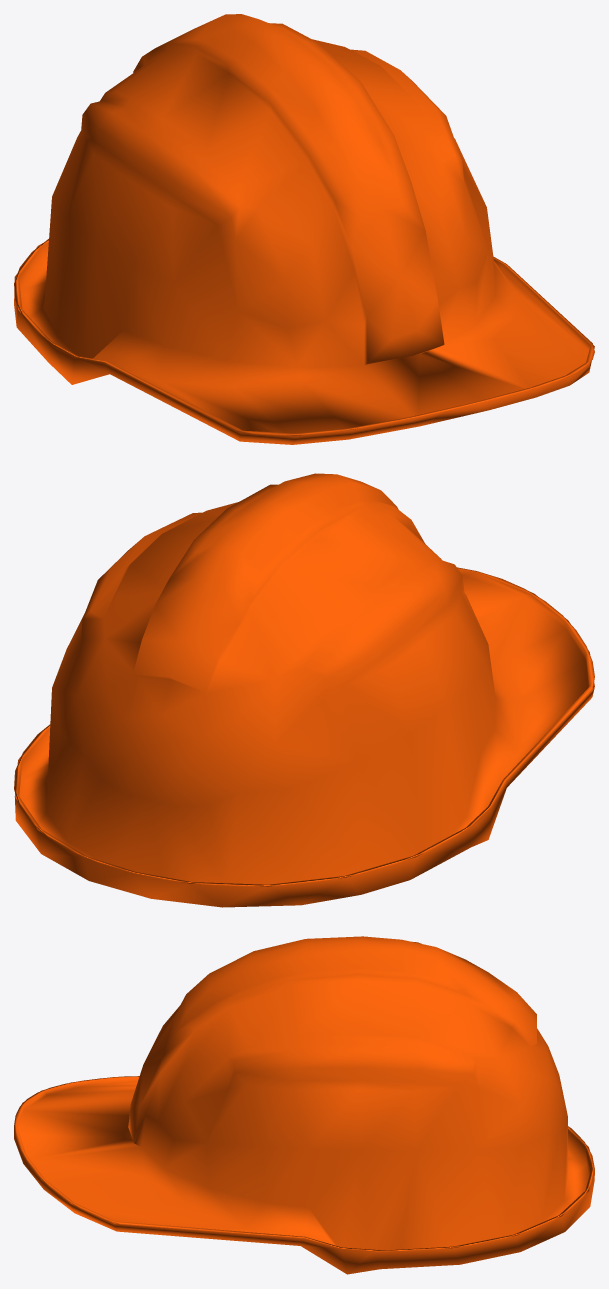
3 renders of one model, top to bottom at view 1: azimuth 30°, elevation 25°; view 2: azimuth 150°, elevation 25°; view 3: azimuth 270°, elevation 25°, orthographic. The views are drawn at different scales.
Visible parts, largest first — view 1: Helmet_lambert1_0_5; view 2: Helmet_lambert1_0_5; view 3: Helmet_lambert1_0_5.
Part boxes in pixels (bbox=[...]): Helmet_lambert1_0_5: bbox=[14, 14, 594, 444]; Helmet_lambert1_0_5: bbox=[14, 473, 594, 907]; Helmet_lambert1_0_5: bbox=[14, 936, 594, 1274].
Size of the model in its own units: 224 by 148 by 315.
